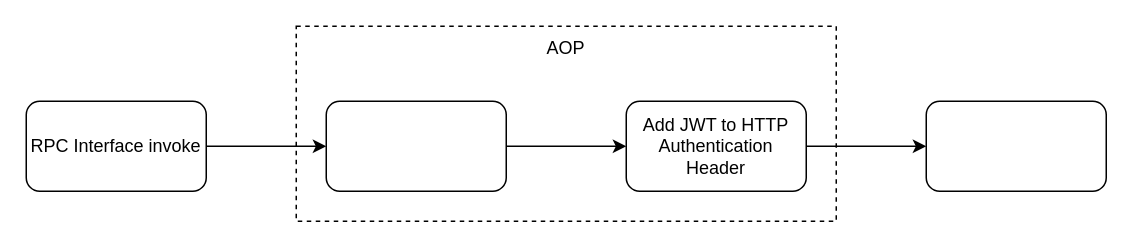
Image size: 1133x248. Some labels were removed from this diagram. The shapes that lost their labels are listed below. From the top down, each one's centre as x and y in pixels, then its label:
At (x=415, y=145): "Get JWT from Security Context".
At (x=1015, y=145): "HTTP Request Executor".
